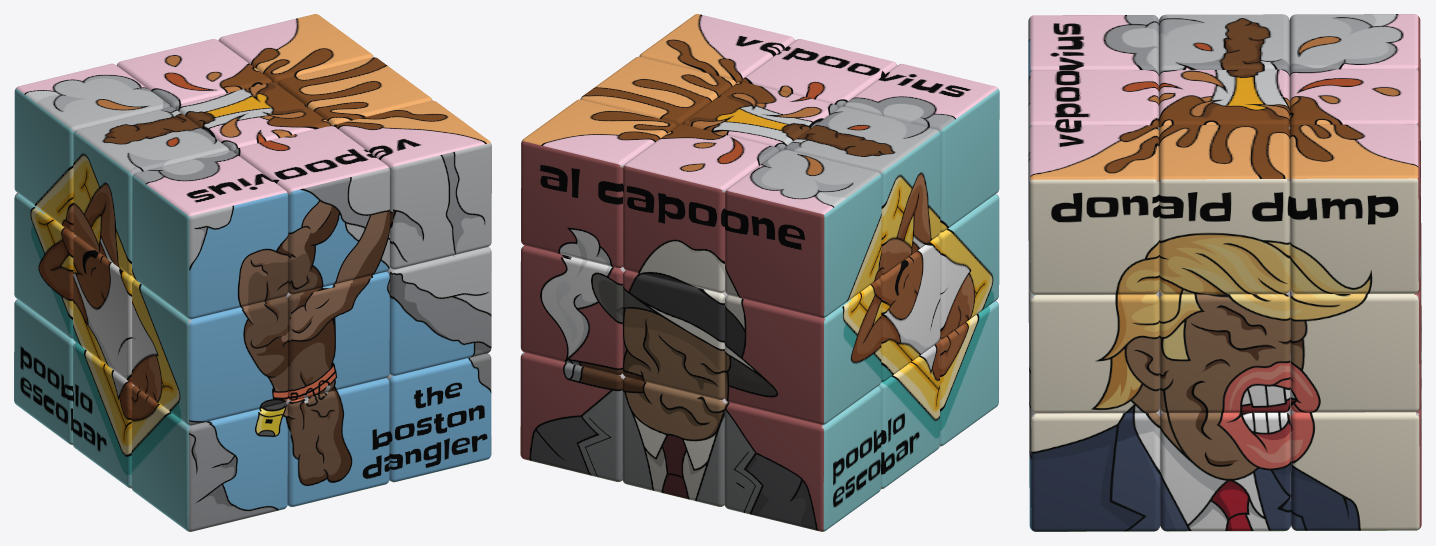
Rendered from Poobixcube v6-optimized.glb.
3 views of the same model, side by side, from view 1: azimuth 30°, elevation 25°; view 2: azimuth 150°, elevation 25°; view 3: azimuth 270°, elevation 25° (orthographic). The views are drawn at different scales.
Parts seen in each view (by area): view 1: Poobix Cube; view 2: Poobix Cube; view 3: Poobix Cube.
Boxes of the visible parts, box(x1,y1,x2,y2) form: Poobix Cube: box(14, 14, 491, 531); Poobix Cube: box(520, 14, 999, 531); Poobix Cube: box(1028, 14, 1421, 531).
Size of the model in its own units: 6 by 6.02 by 6.02.
7 materials, 6 textured.
